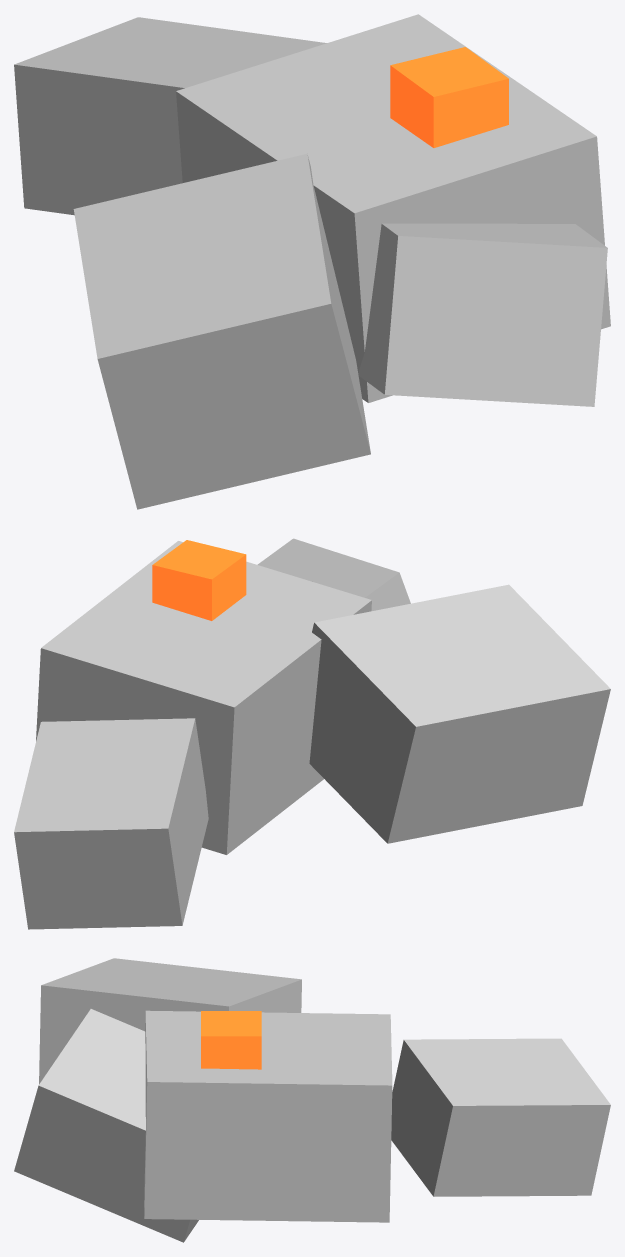
The model's file is wa_slag.glb.
3 views of the same model, one above another, from view 1: azimuth 30°, elevation 25°; view 2: azimuth 150°, elevation 25°; view 3: azimuth 270°, elevation 25° (orthographic). The views are drawn at different scales.
Visible parts, largest first — view 1: wa_slag; view 2: wa_slag; view 3: wa_slag.
Part boxes in pixels (<box>): wa_slag: <box>14,14,610,509</box>; wa_slag: <box>14,538,610,929</box>; wa_slag: <box>14,958,610,1242</box>.
Bounding box in the file's own units: 0.3555 × 0.1817 × 0.4936.
